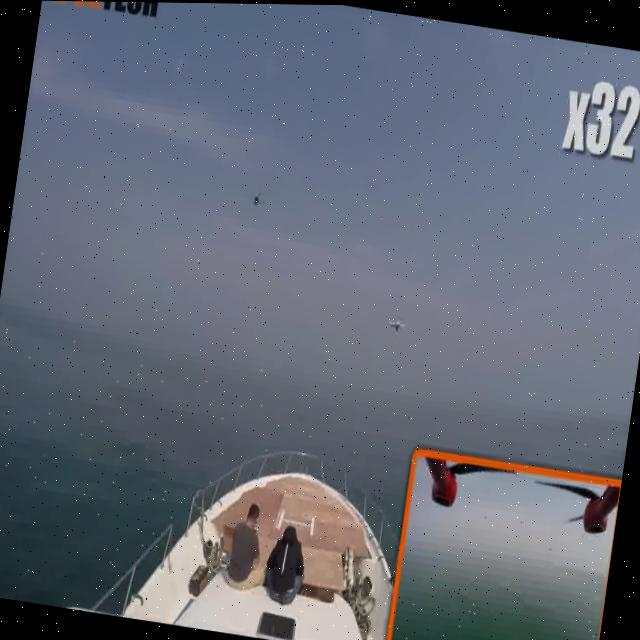drone: (379, 301, 416, 339), (246, 181, 270, 216)
